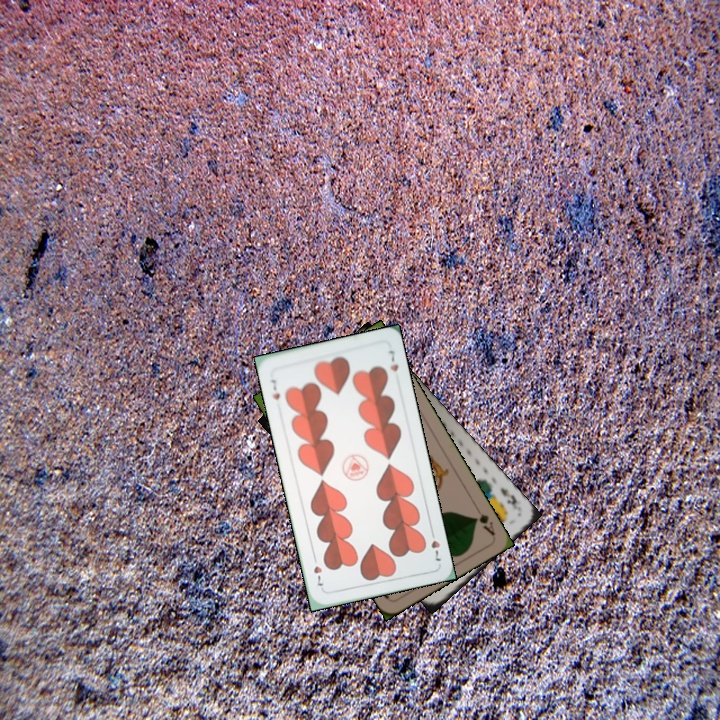EK: (496, 484, 520, 508)
GA: (470, 510, 498, 538)
H7: (427, 525, 444, 564), (267, 375, 283, 402)
